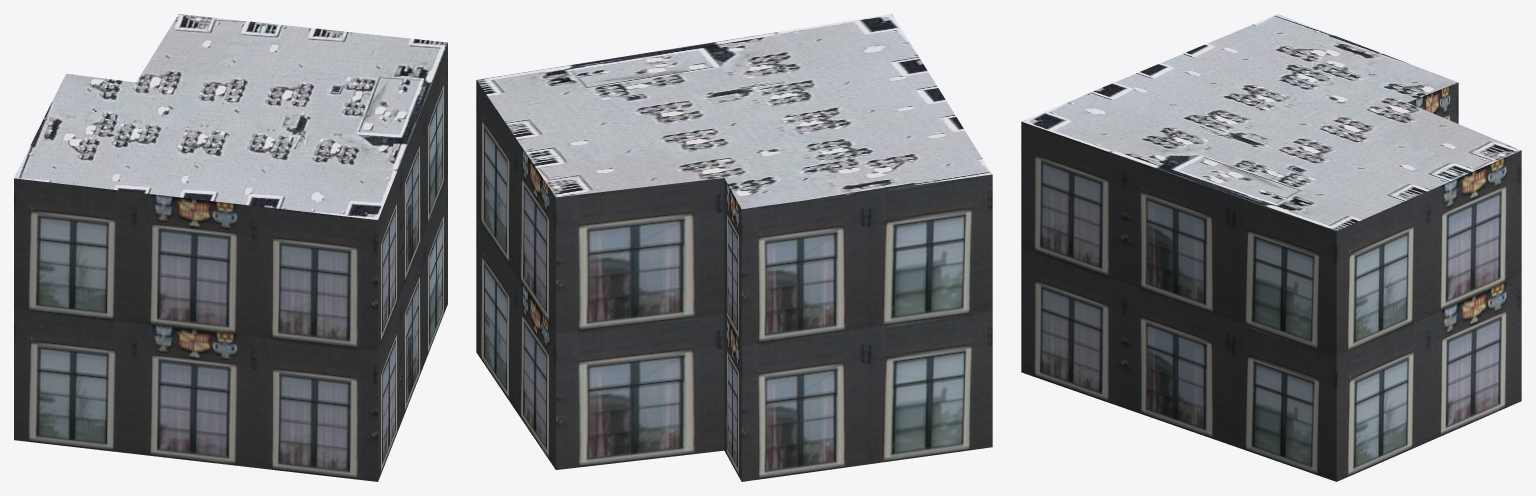
The model's file is ResTex__4748.fbx.
The picture shows the model from 3 angles, left to right: view 1: azimuth 30°, elevation 25°; view 2: azimuth 150°, elevation 25°; view 3: azimuth 270°, elevation 25°; orthographic projection. The views are drawn at different scales.
Parts seen in each view (by area): view 1: CityEngineMaterial_22_m, CityEngineMaterial_4_m; view 2: CityEngineMaterial_22_m, CityEngineMaterial_4_m; view 3: CityEngineMaterial_22_m, CityEngineMaterial_4_m.
Boxes of the visible parts, left/top/right/bottom form: CityEngineMaterial_22_m: left=14, top=43, right=447, bottom=481; CityEngineMaterial_4_m: left=14, top=14, right=447, bottom=219; CityEngineMaterial_22_m: left=476, top=80, right=992, bottom=481; CityEngineMaterial_4_m: left=477, top=14, right=992, bottom=208; CityEngineMaterial_22_m: left=1021, top=82, right=1521, bottom=481; CityEngineMaterial_4_m: left=1022, top=14, right=1520, bottom=230.
Bounding box in the file's own units: 11.14 × 6 × 10.85.
2 materials, 2 textured.
